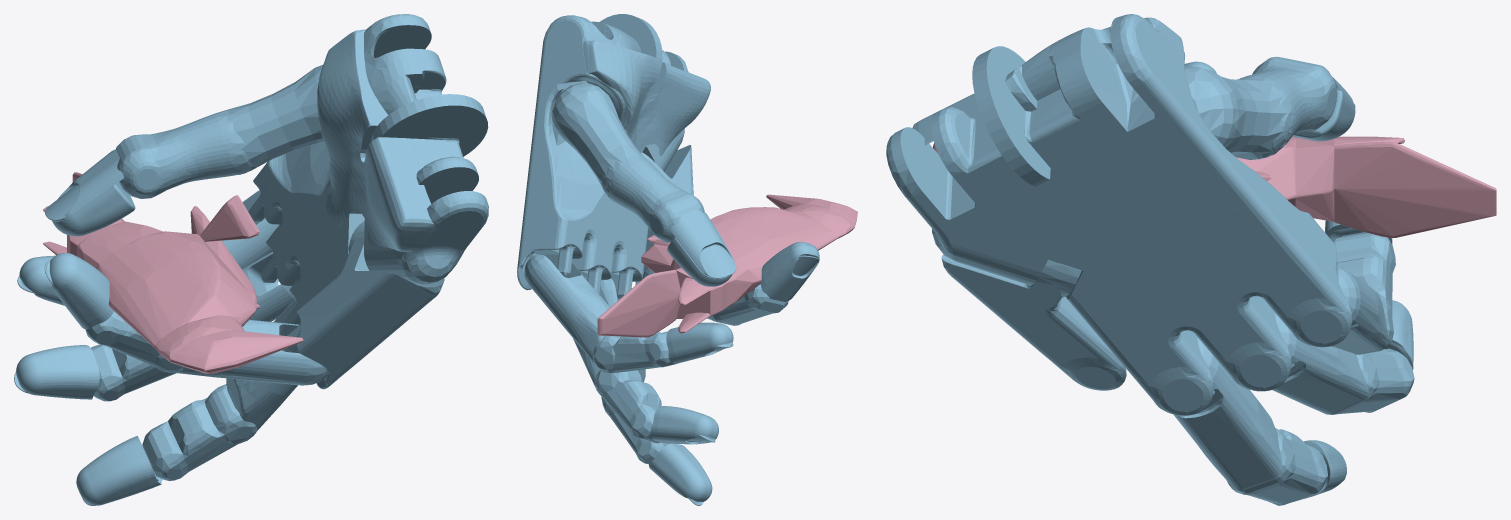
The picture shows the model from 3 angles, left to right: view 1: azimuth 30°, elevation 25°; view 2: azimuth 150°, elevation 25°; view 3: azimuth 270°, elevation 25°; orthographic projection. The views are drawn at different scales.
Parts seen in each view (by area): view 1: hand_isaac_q, world; view 2: hand_isaac_q, world; view 3: hand_isaac_q, world.
Boxes of the visible parts, bbox=[...] form: hand_isaac_q: bbox=[14, 14, 488, 505]; world: bbox=[43, 172, 303, 373]; hand_isaac_q: bbox=[517, 14, 819, 505]; world: bbox=[597, 194, 857, 337]; hand_isaac_q: bbox=[886, 14, 1414, 505]; world: bbox=[933, 136, 1496, 237].
Bounding box in the file's own units: 0.1395 × 0.1785 × 0.1614.
